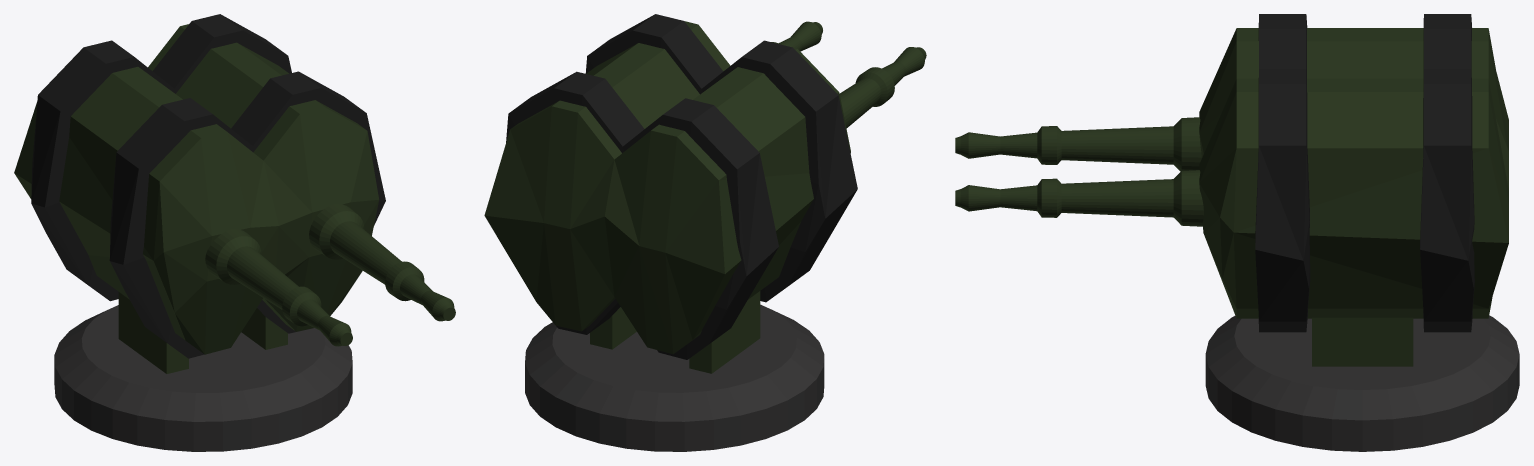
The model's file is MashineGUN1.dae.
The picture shows the model from 3 angles, left to right: view 1: azimuth 30°, elevation 25°; view 2: azimuth 150°, elevation 25°; view 3: azimuth 270°, elevation 25°; orthographic projection. The views are drawn at different scales.
Parts seen in each view (by area): view 1: Cube, Круглая Осн, Cube.001, Cube.002, Cylinder, Cylinder.001, Крепление1, Крепление1.001; view 2: Cube, Круглая Осн, Cube.002, Cube.001, Cylinder, Крепление1, Крепление1.001, Cylinder.001; view 3: Cube, Круглая Осн, Cube.001, Cube.002, Cylinder.001, Cylinder, Крепление1.001.
Boxes of the visible parts, bbox=[...] form: Cube: bbox=[14, 24, 379, 354]; Круглая Осн: bbox=[54, 305, 352, 451]; Cube.001: bbox=[109, 71, 385, 358]; Cube.002: bbox=[31, 14, 291, 301]; Cylinder: bbox=[205, 229, 352, 346]; Cylinder.001: bbox=[309, 204, 455, 321]; Крепление1: bbox=[118, 292, 188, 373]; Крепление1.001: bbox=[241, 308, 287, 349]; Cube: bbox=[484, 21, 850, 354]; Круглая Осн: bbox=[525, 304, 824, 451]; Cube.002: bbox=[506, 71, 778, 359]; Cube.001: bbox=[585, 14, 857, 302]; Cylinder: bbox=[839, 47, 926, 128]; Крепление1: bbox=[689, 291, 760, 373]; Крепление1.001: bbox=[590, 307, 636, 349]; Cylinder.001: bbox=[771, 21, 822, 51]; Cube: bbox=[1199, 28, 1508, 318]; Круглая Осн: bbox=[1205, 315, 1519, 451]; Cube.001: bbox=[1255, 14, 1310, 332]; Cube.002: bbox=[1420, 14, 1474, 332]; Cylinder.001: bbox=[955, 170, 1203, 226]; Cylinder: bbox=[955, 117, 1201, 171]; Крепление1.001: bbox=[1312, 317, 1413, 366].
Bounding box in the file's own units: 2.53 × 4.48 × 2.95.
